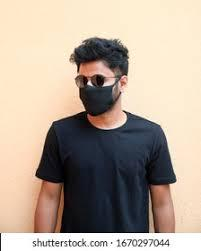mask: (74, 82, 121, 119)
sunglasses: (73, 73, 111, 89)
